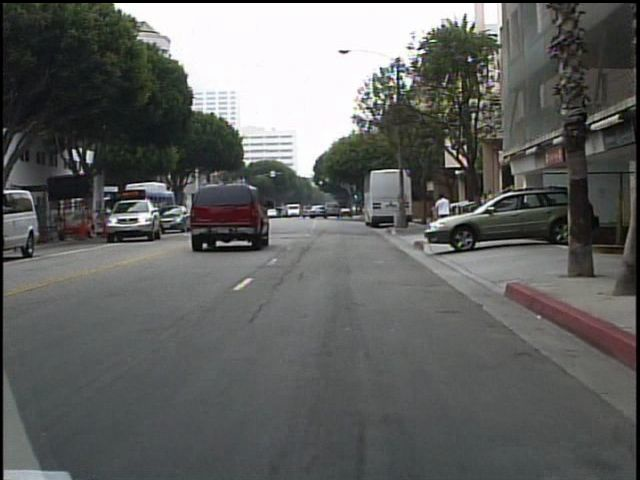person: (431, 190, 454, 239)
